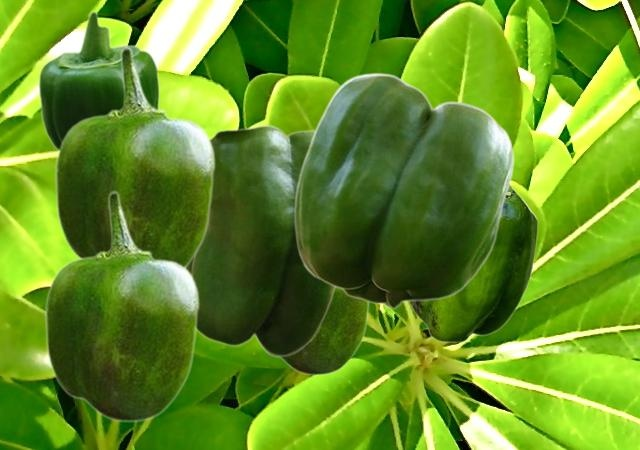bell_pepper: (293, 72, 513, 308), (44, 190, 199, 422), (54, 46, 215, 267), (189, 124, 335, 356), (409, 185, 537, 342), (37, 10, 159, 150), (255, 289, 370, 375)
